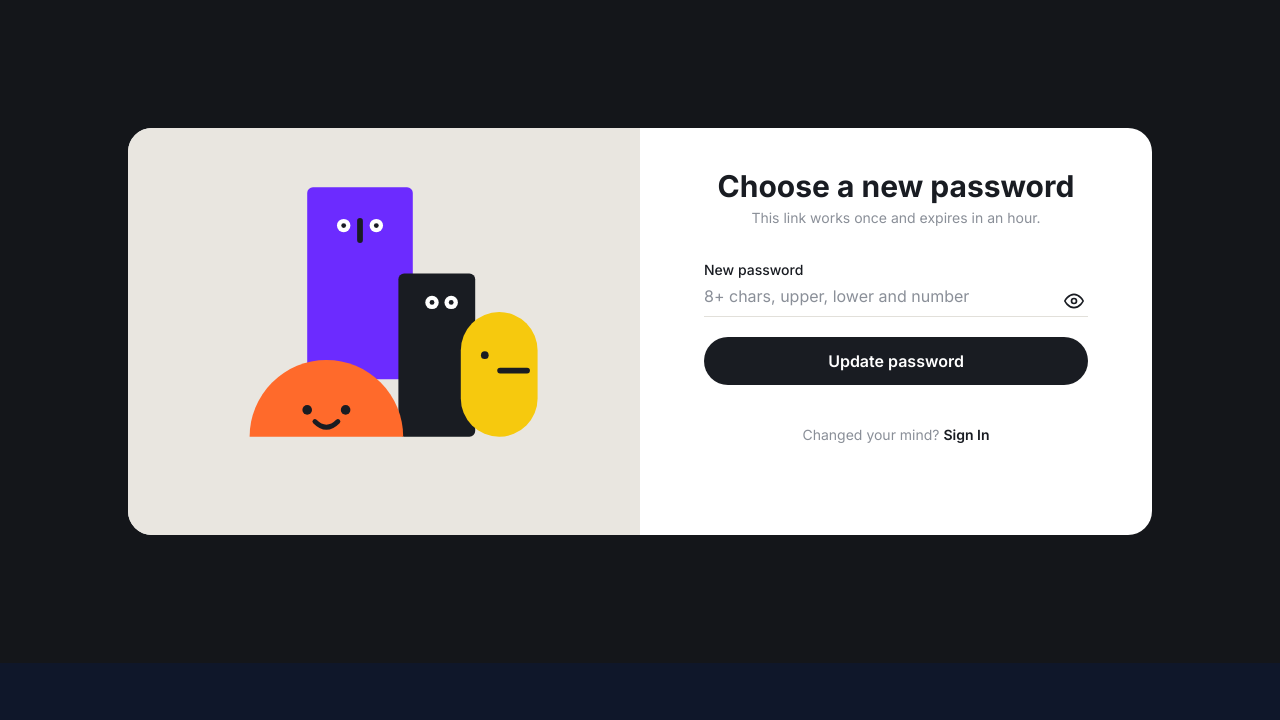
Test: ResetPasswordPage submission › surfaces a weak password from the gateway
The width and height of the screenshot is (1280, 720).
In the password field labelled "New password": coordinates (896, 301) [704, 284, 1088, 317], type "Str0ngPassw0rd"
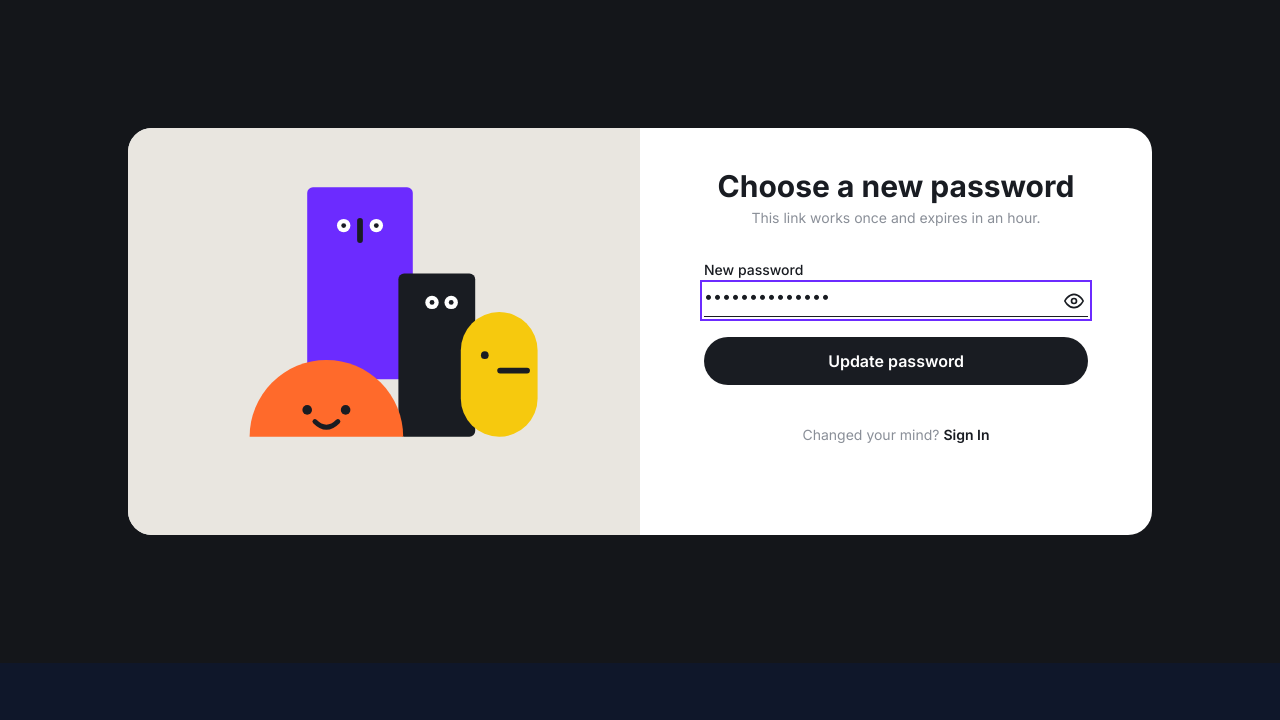
Click the button "Update password": coordinates (896, 361) [704, 337, 1088, 385]
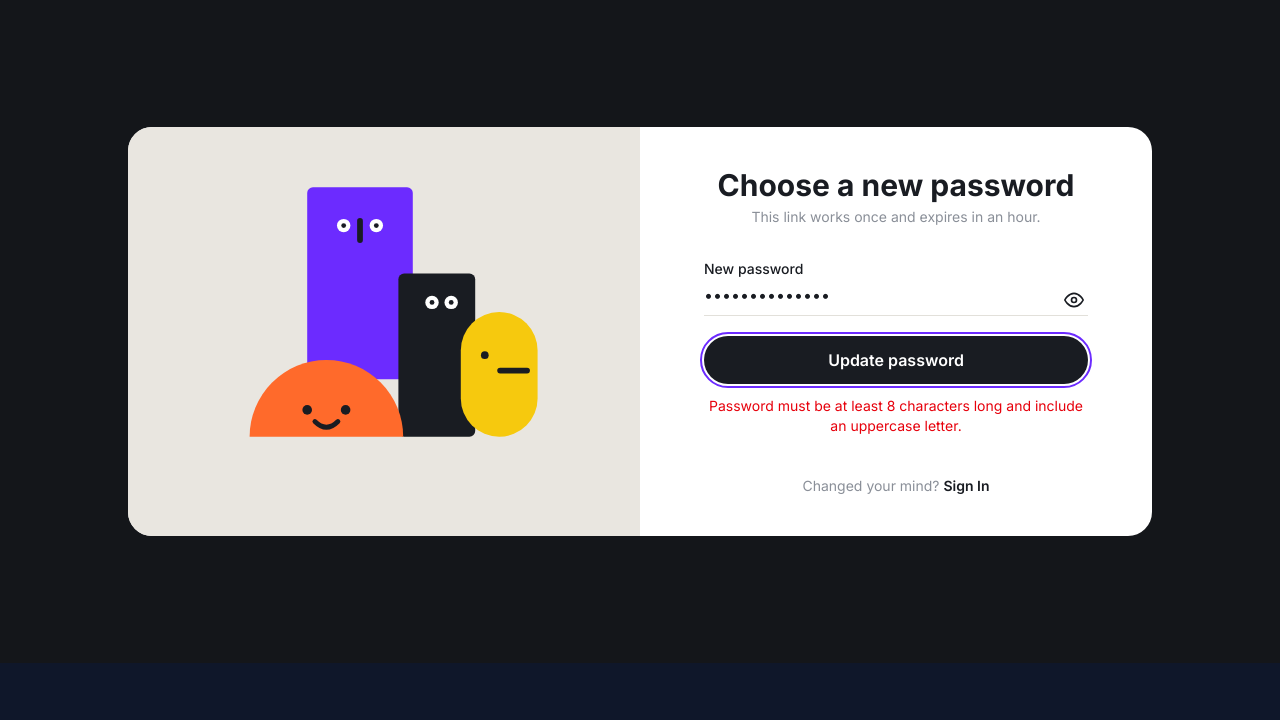
Expected: the text "Password must be at least 8 characters long and include an uppercase letter." is shown, [704, 396, 1088, 436]
